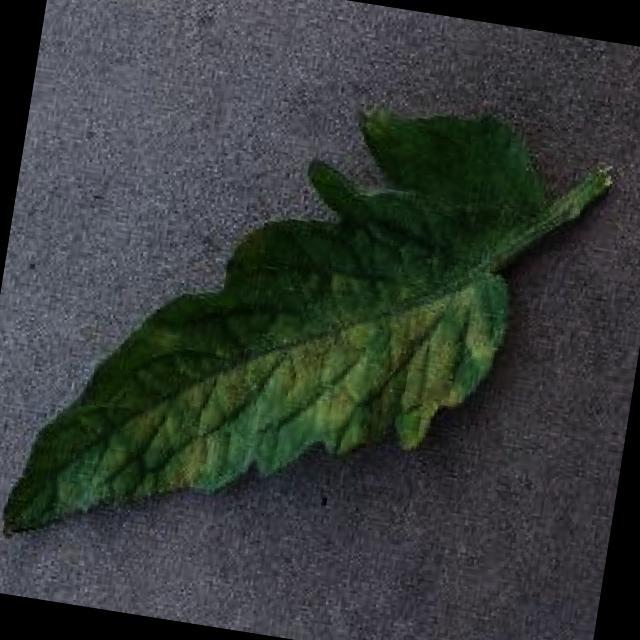Tomato mold leaf: (0, 50, 556, 614)
